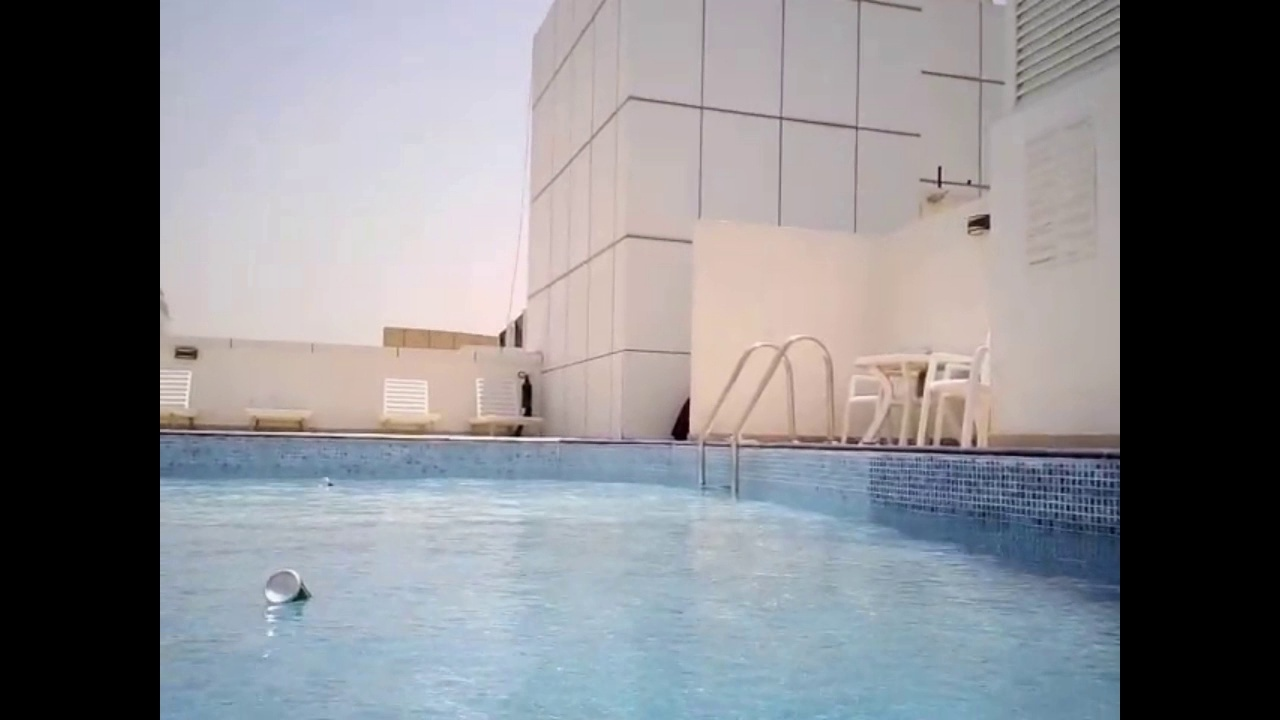debris: (255, 563, 314, 615), (319, 473, 338, 488)
